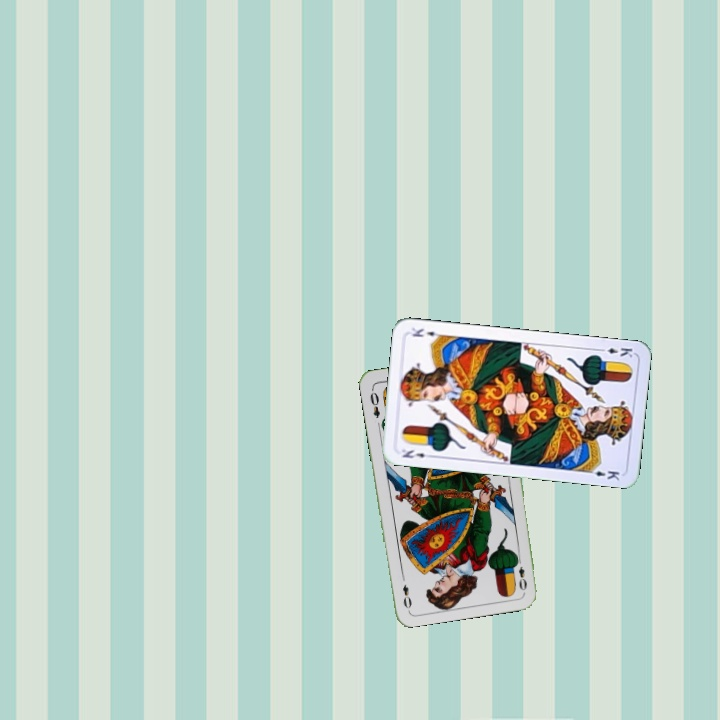EK: (595, 343, 635, 360), (398, 445, 435, 461)
EO: (512, 553, 529, 593), (366, 385, 382, 421)
